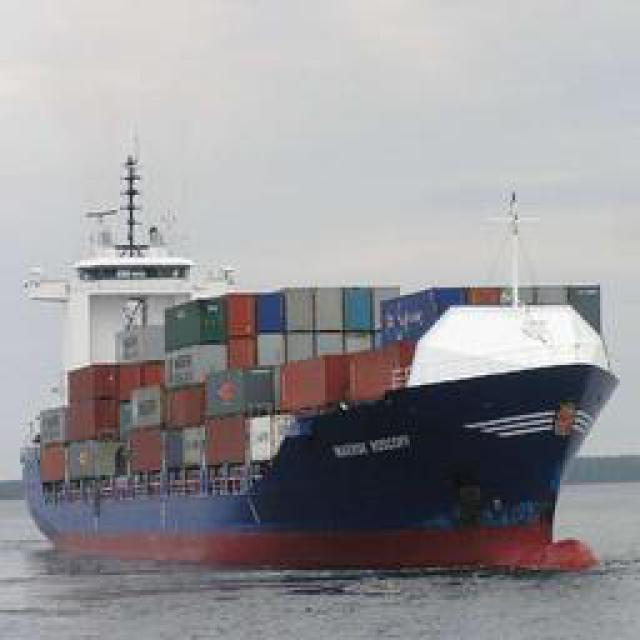Ship: (26, 145, 626, 578)
